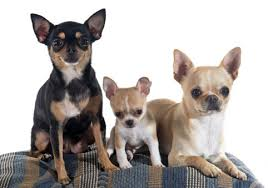Bulldog: (19, 5, 115, 179), (166, 40, 261, 184), (100, 70, 166, 172)
